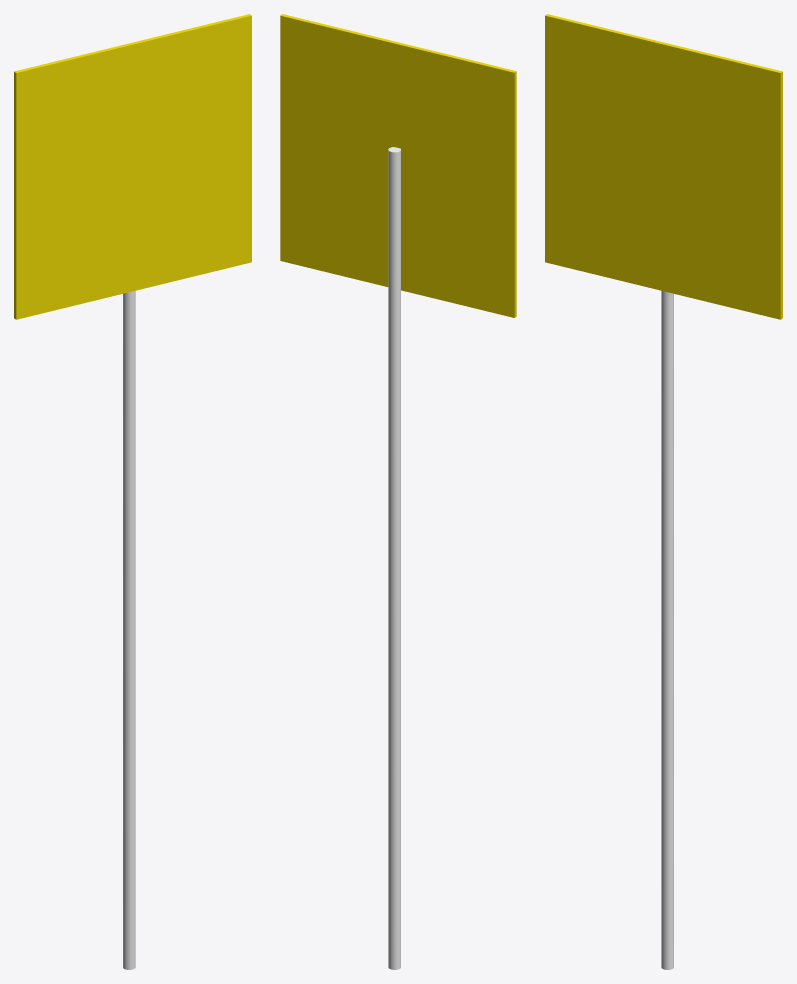
The model's file is YellowSheild.FBX.
3 views of the same model, side by side, from view 1: azimuth 30°, elevation 25°; view 2: azimuth 150°, elevation 25°; view 3: azimuth 330°, elevation 25° (orthographic).
Visible parts, largest first — view 1: Box001, Cylinder001; view 2: Box001, Cylinder001; view 3: Box001, Cylinder001.
Part boxes in pixels (left/top/right/bottom): Box001: left=14, top=14, right=251, bottom=319; Cylinder001: left=123, top=291, right=135, bottom=969; Box001: left=280, top=14, right=516, bottom=317; Cylinder001: left=388, top=147, right=400, bottom=969; Box001: left=545, top=14, right=782, bottom=319; Cylinder001: left=661, top=291, right=673, bottom=969.
Bounding box in the file's own units: 60 × 225 × 3.56.
